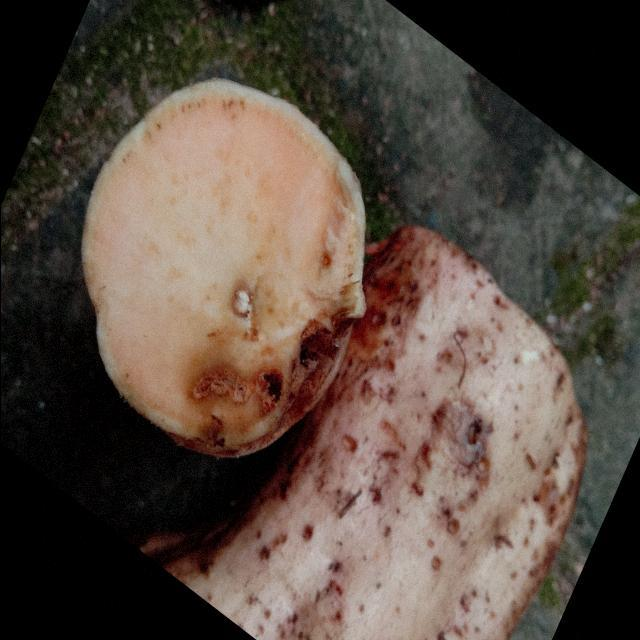Sick Sweet Potato_Tuber Rot: (81, 80, 364, 457)
